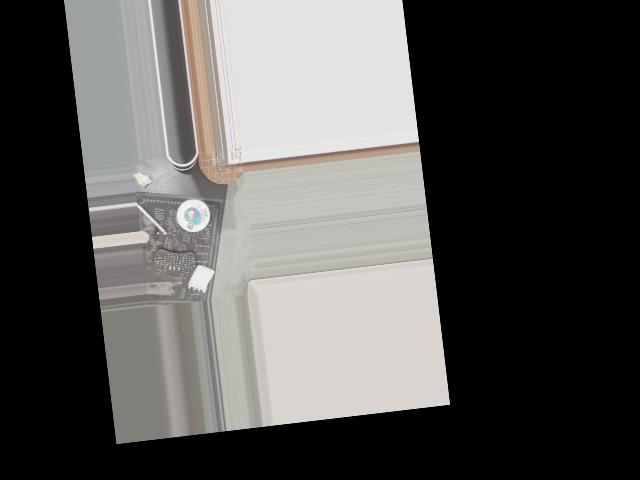cotage: (174, 194, 218, 235)
